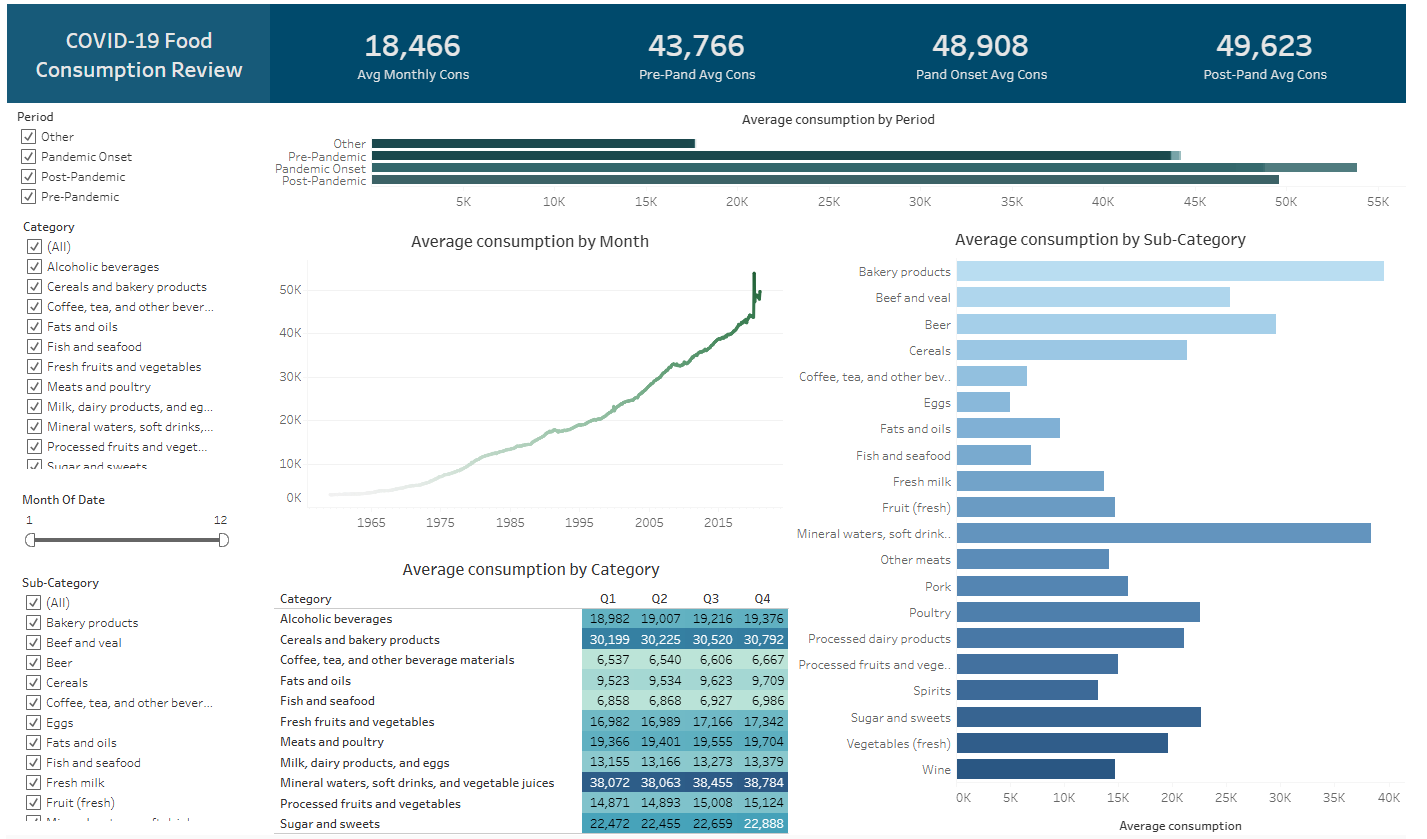

What the dashboard file says about the page in this screenshot:
{"tool":"tableau","page":{"name":"Dashboard 1","canvas":[1400,850],"ordinal":0},"visuals":[{"type":"text","box":[1,19,264,99]},{"type":"worksheet","title":"Summary","mark":"Automatic","box":[264,19,1136,99]},{"type":"worksheet","title":"By Period","mark":"Automatic","rows":["Calculation_1060316280224440325"],"cols":["Month"],"box":[265,118,1135,113]},{"type":"filter","title":"By Category","param":"[federated.1n08g1q0n84wrw1c0ummf0ci4v4m].[none:Calculation_1060316280224440325:n","box":[11,122,218,109]},{"type":"filter","title":"By Sub","param":"[federated.1n08g1q0n84wrw1c0ummf0ci4v4m].[none:Category:nk]","box":[17,232,207,252]},{"type":"worksheet","title":"By Category","mark":"Automatic","rows":["Sub-Category"],"cols":["Millions of Dollars"],"box":[790,235,609,619]},{"type":"worksheet","title":"By Month","mark":"Line","rows":["Millions of Dollars"],"cols":["Month"],"box":[271,237,506,315]},{"type":"filter","title":"By Period","param":"[federated.1n08g1q0n84wrw1c0ummf0ci4v4m].[mn:Month:qk]","box":[16,505,209,68]},{"type":"worksheet","title":"By Sub","mark":"Square","rows":["Category"],"cols":["Month"],"box":[268,565,515,284]},{"type":"filter","title":"By Category","param":"[federated.1n08g1q0n84wrw1c0ummf0ci4v4m].[none:Sub-Category:nk]","box":[16,588,212,248]}]}

Visuals, with their boxes on the page's 1400x850 design canvas (x1, y1, x2, y2). These are canvas units, not pixel positions in the 1427x839 screenshot, which may show the page scaled, cropped or inside an application window:
text: bbox(1, 19, 265, 118)
"Summary" worksheet: bbox(264, 19, 1400, 118)
"By Period" worksheet: bbox(265, 118, 1400, 231)
"By Category" filter: bbox(11, 122, 229, 231)
"By Sub" filter: bbox(17, 232, 224, 484)
"By Category" worksheet: bbox(790, 235, 1399, 854)
"By Month" worksheet (Line marks): bbox(271, 237, 777, 552)
"By Period" filter: bbox(16, 505, 225, 573)
"By Sub" worksheet (Square marks): bbox(268, 565, 783, 849)
"By Category" filter: bbox(16, 588, 228, 836)
